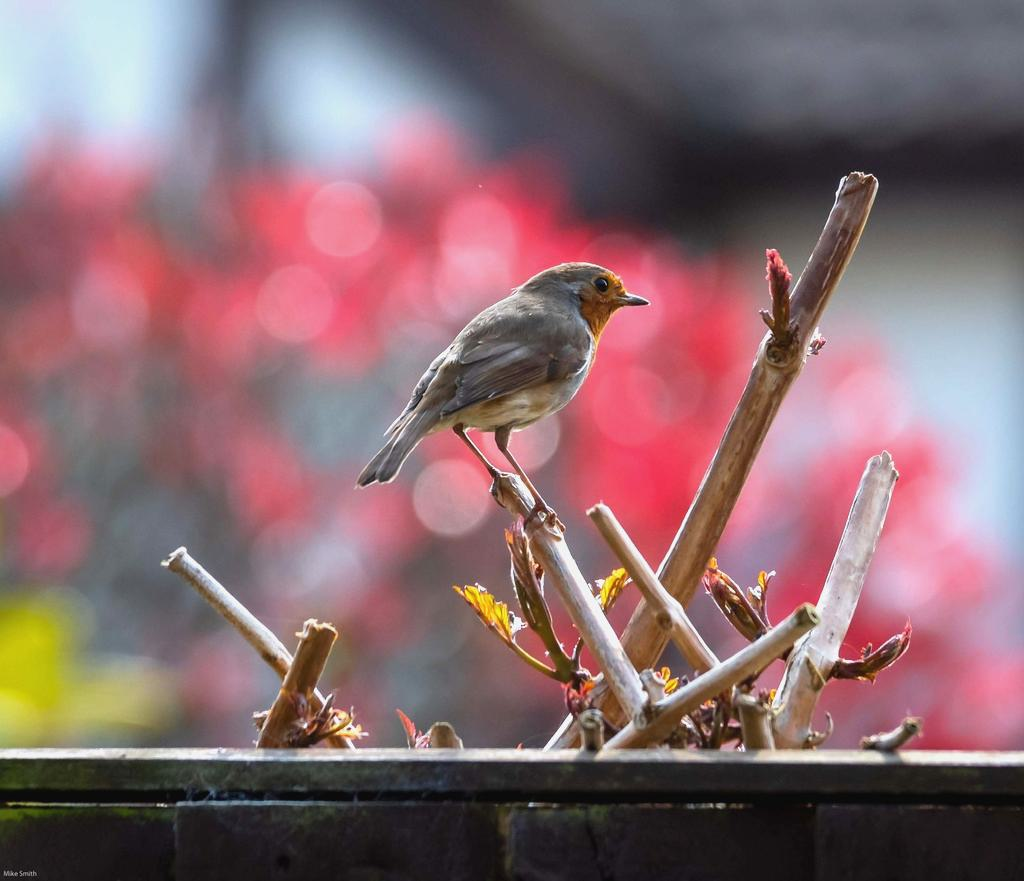ErithacusRubecula: (353, 262, 650, 526)
